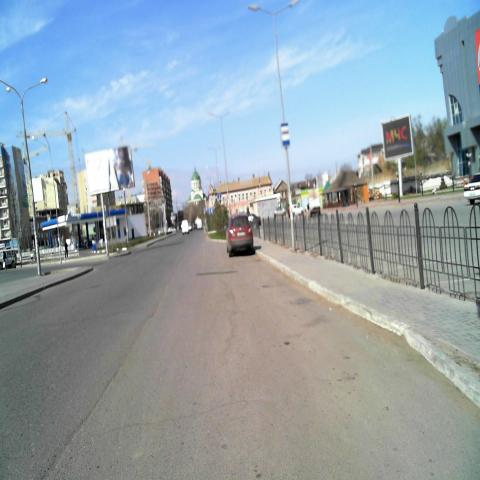5_16: (281, 123, 290, 149)
